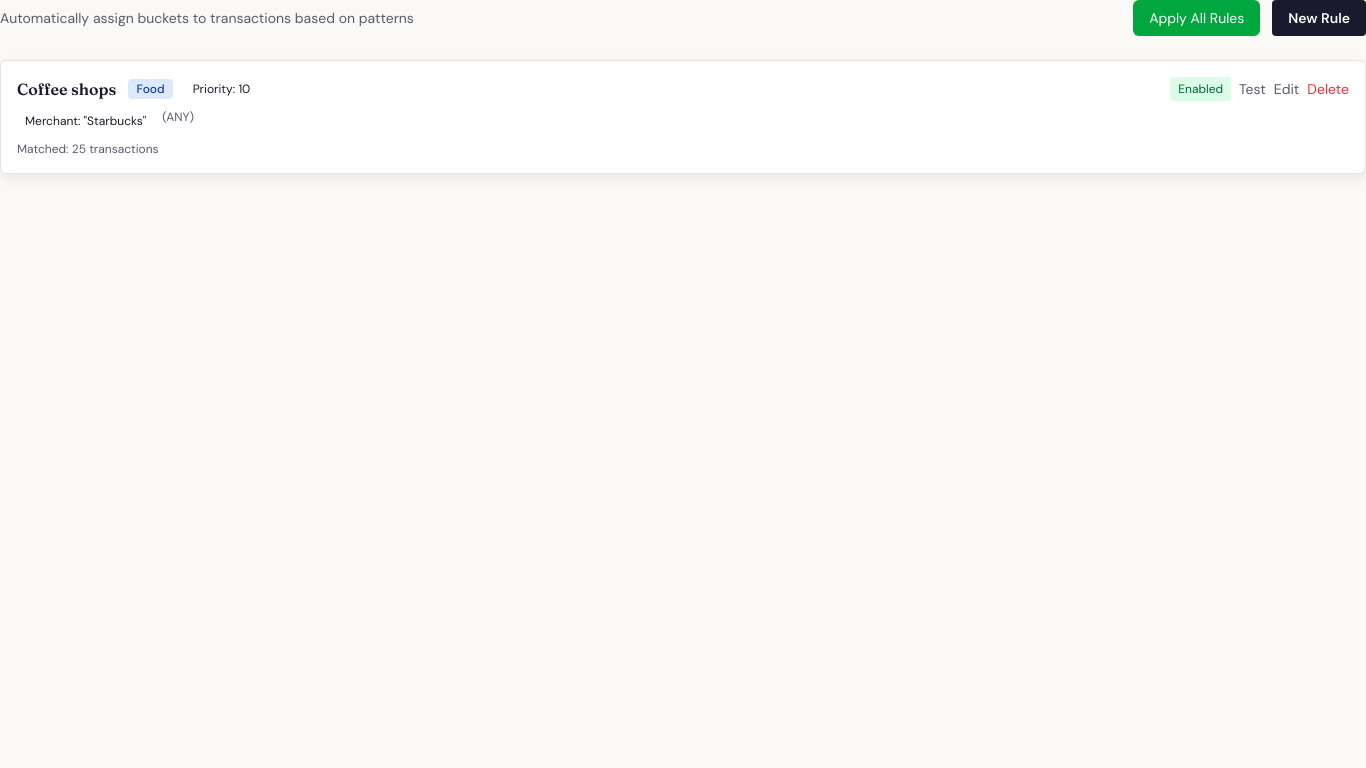
Test: RulesPanel › opens create form when new rule clicked
What coordinates should you click on to do the following:
click the button with test id "new-rule-btn"
I would click on:
 (1319, 18)
Its box is top-left (1272, 0), bottom-right (1365, 36).
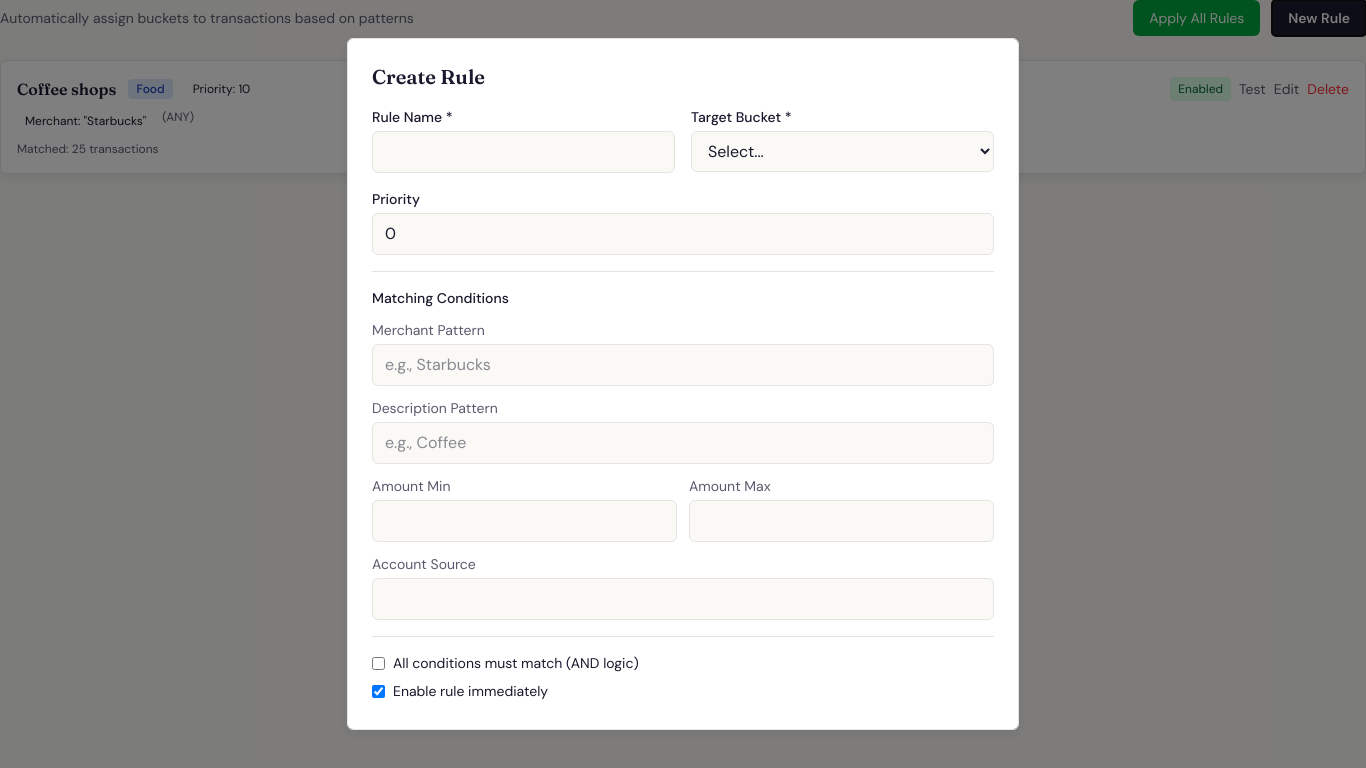
Expected: the element with test id "rule-form-modal" is shown
Expected: the heading "Create Rule" is shown, top-left (372, 64), bottom-right (485, 89)
